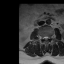CCS_normal: (45, 34, 47, 42)
LFS_normal: (48, 34, 51, 40)
LLS_normal: (47, 34, 48, 41)
RFS_normal: (41, 34, 43, 41)
RLS_normal: (43, 35, 45, 41)
